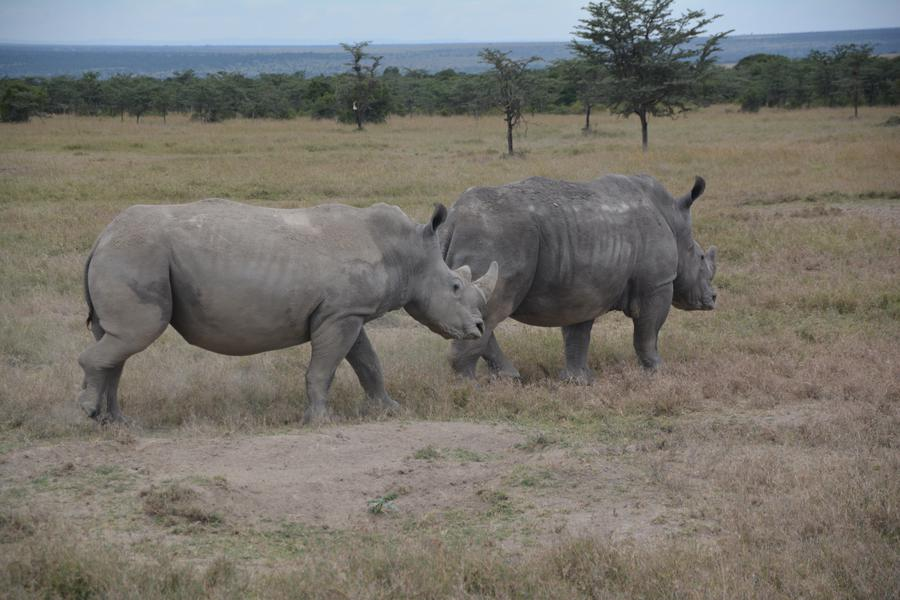rhino: (89, 198, 480, 396), (478, 177, 717, 351)
